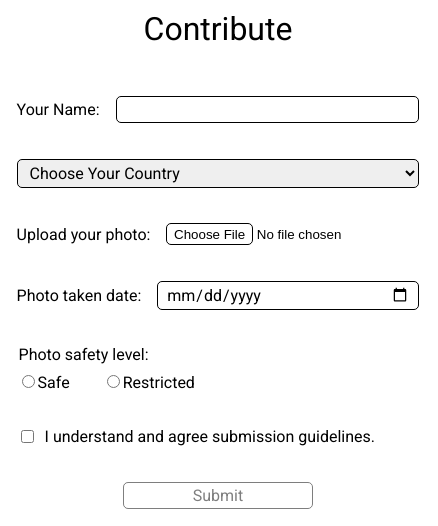
Scenario: Should render error messages for required inputs
Type "John" into the field labelled "Your Name:" at (267, 110), box [116,96,419,123]
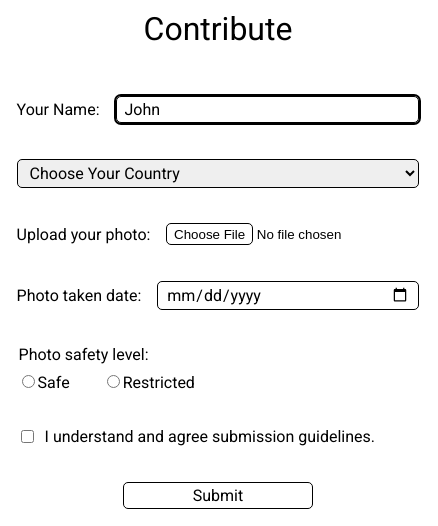
Click the button "Submit" at (218, 495), box [123,482,313,509]
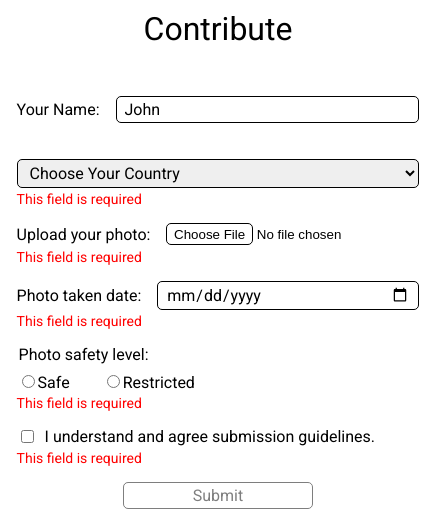
Expected: the text "This field is required" is shown 5 times, [17,191,142,207]; [17,249,142,265]; [17,313,142,329]; [17,395,142,411]; [17,450,142,466]
